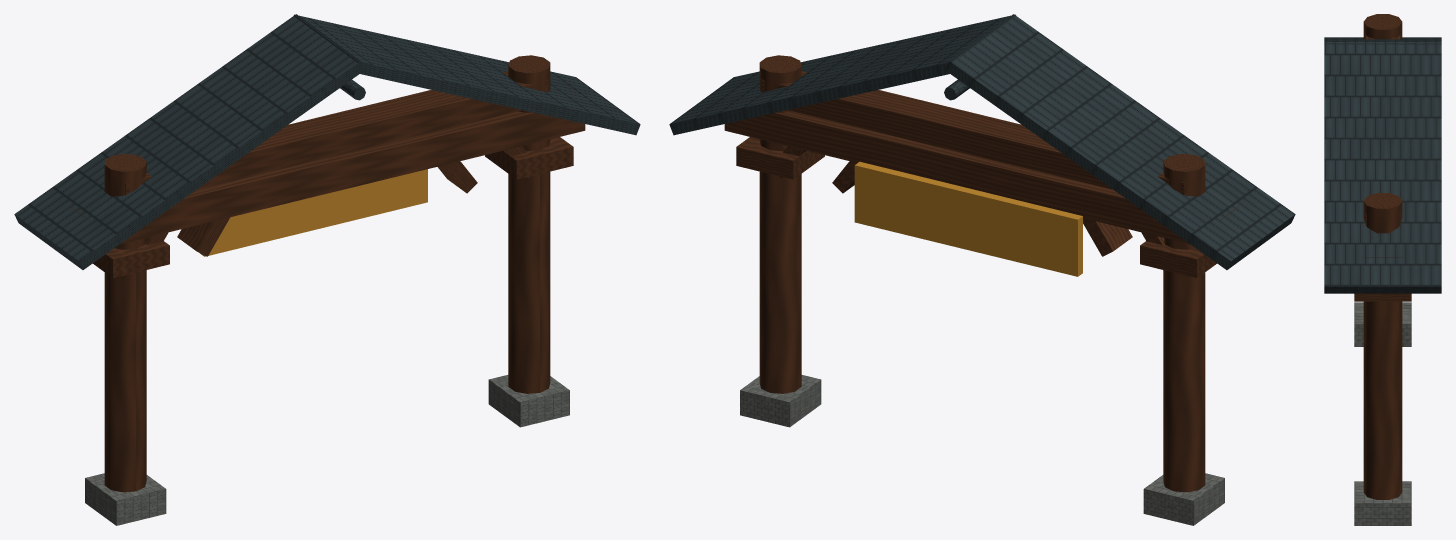
File: gate_v5.obj
3 renders of one model, left to right at view 1: azimuth 30°, elevation 25°; view 2: azimuth 150°, elevation 25°; view 3: azimuth 270°, elevation 25°, orthographic. The views are drawn at different scales.
Visible parts, largest first — view 1: gate_v5; view 2: gate_v5; view 3: gate_v5.
Boxes of the visible parts, <box> form: gate_v5: <box>14,14,640,525</box>; gate_v5: <box>669,14,1295,525</box>; gate_v5: <box>1324,14,1441,525</box>.
Size of the model in its own units: 11.83 by 8.47 by 2.36.
6 materials, 5 textured.
